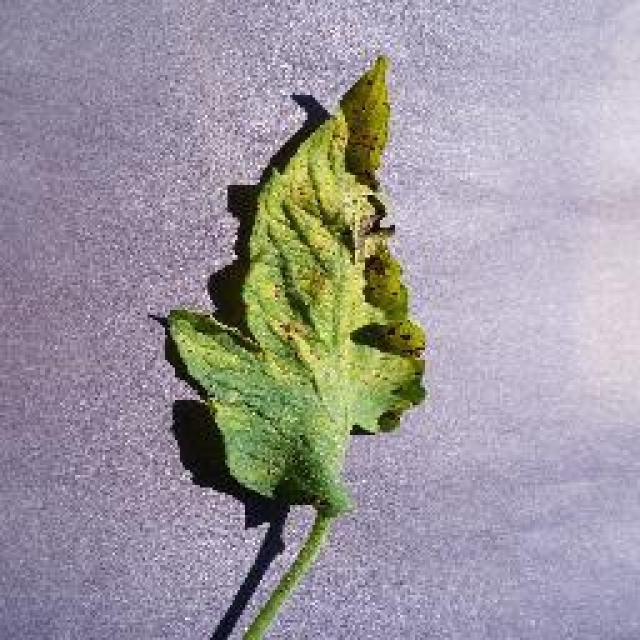Tomato target spot leaf: (165, 51, 437, 529)
